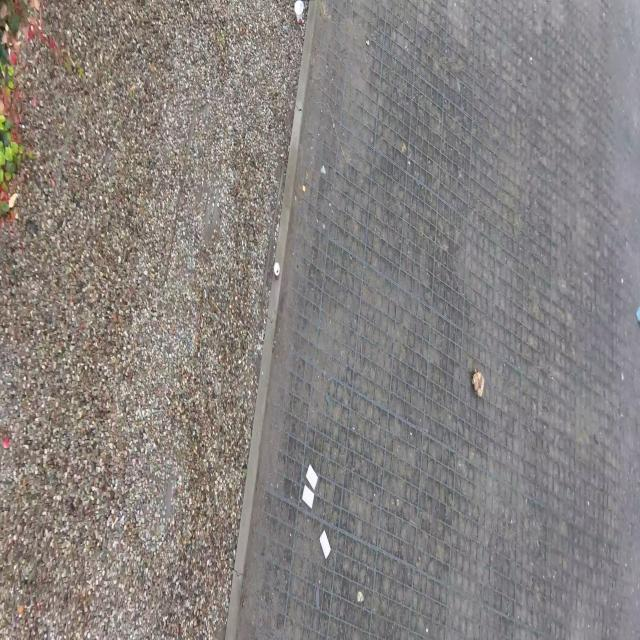rubbish: (471, 368, 485, 398), (318, 530, 331, 560), (306, 465, 318, 489), (302, 486, 315, 508), (294, 1, 303, 24), (273, 262, 280, 281), (636, 307, 639, 324)
